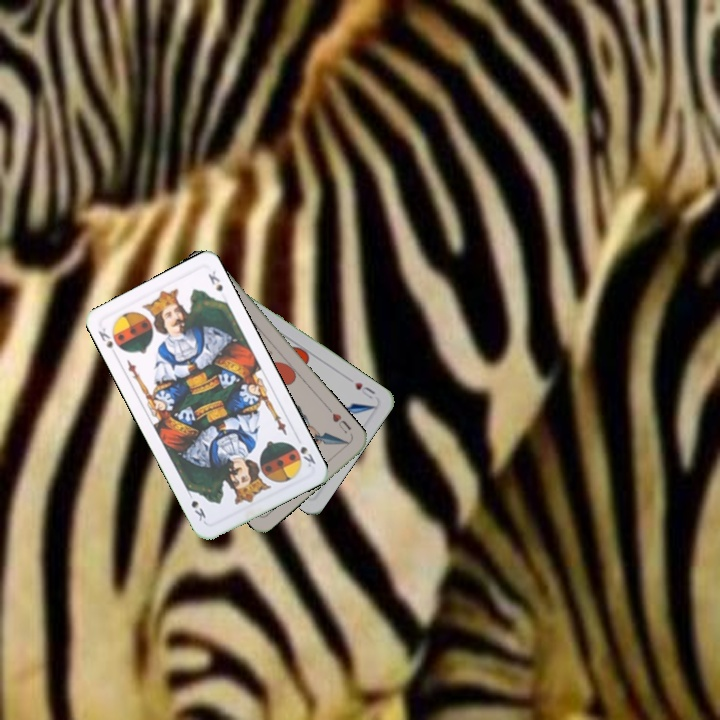HU: (328, 409, 354, 436), (350, 378, 378, 402)
SK: (94, 323, 120, 360), (296, 442, 318, 470)
